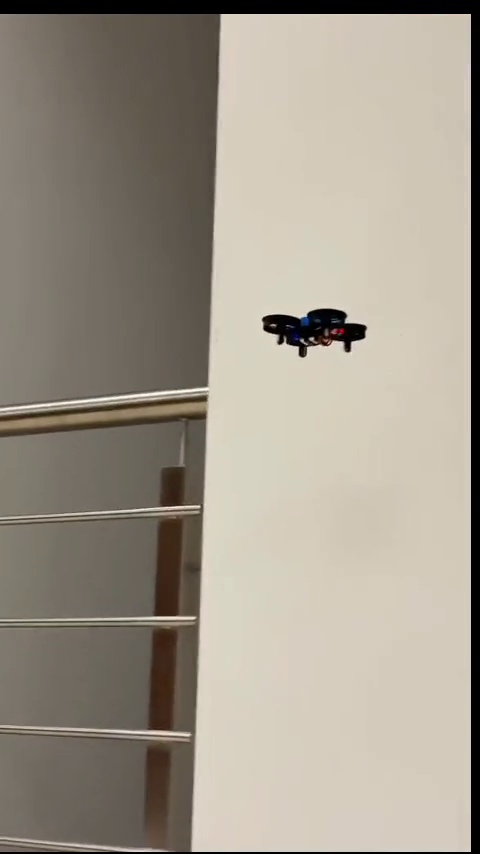drone: (267, 310, 371, 357)
